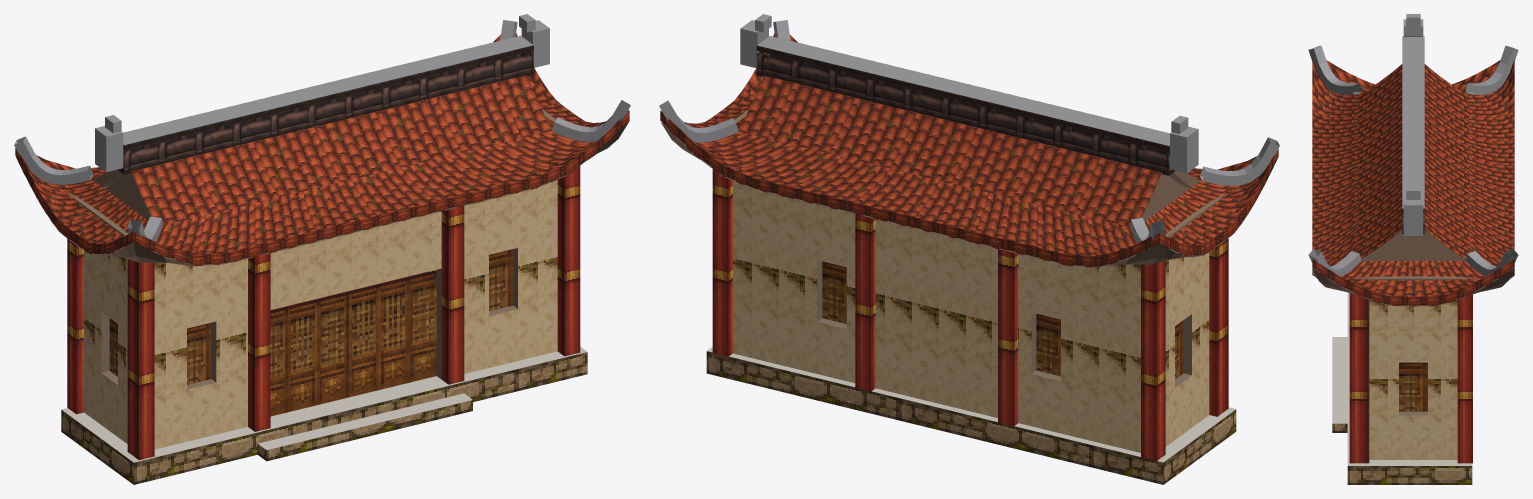
The model's file is b_house_red.glb.
The picture shows the model from 3 angles, left to right: view 1: azimuth 30°, elevation 25°; view 2: azimuth 150°, elevation 25°; view 3: azimuth 270°, elevation 25°; orthographic projection. The views are drawn at different scales.
Parts seen in each view (by area): view 1: roof, plaster, post, door, stone, ridge, ridgeend, stonetop, eave, win, reveal, under (+1 smaller); view 2: plaster, roof, post, stone, ridge, ridgeend, eave, win, stonetop, under, reveal, wood; view 3: roof, plaster, ridgeend, post, stone, stonetop, wood, eave, win, under.
Boxes of the visible parts, x1=… form: roof: x1=20, y1=33, x2=628, y2=255; plaster: x1=84, y1=179, x2=557, y2=449; post: x1=67, y1=166, x2=580, y2=460; door: x1=270, y1=269, x2=436, y2=416; stone: x1=61, y1=352, x2=587, y2=484; ridge: x1=117, y1=45, x2=533, y2=174; ridgeend: x1=14, y1=14, x2=630, y2=241; stonetop: x1=61, y1=347, x2=587, y2=462; eave: x1=15, y1=110, x2=629, y2=266; win: x1=109, y1=249, x2=513, y2=384; reveal: x1=101, y1=248, x2=517, y2=389; under: x1=15, y1=122, x2=628, y2=266; plaster: x1=733, y1=181, x2=1209, y2=452; roof: x1=661, y1=33, x2=1273, y2=256; post: x1=712, y1=169, x2=1228, y2=461; stone: x1=706, y1=351, x2=1236, y2=484; ridge: x1=756, y1=45, x2=1175, y2=175; ridgeend: x1=659, y1=14, x2=1279, y2=248; eave: x1=660, y1=111, x2=1278, y2=267; win: x1=822, y1=261, x2=1183, y2=379; stonetop: x1=707, y1=347, x2=1235, y2=462; under: x1=661, y1=122, x2=1275, y2=267; reveal: x1=817, y1=260, x2=1191, y2=387; wood: x1=734, y1=109, x2=1227, y2=237; roof: x1=1312, y1=59, x2=1514, y2=296; plaster: x1=1369, y1=300, x2=1457, y2=459; ridgeend: x1=1308, y1=14, x2=1518, y2=276; post: x1=1349, y1=293, x2=1472, y2=463; stone: x1=1332, y1=423, x2=1472, y2=484; stonetop: x1=1332, y1=292, x2=1472, y2=465; wood: x1=1355, y1=93, x2=1473, y2=280; eave: x1=1312, y1=258, x2=1514, y2=306; win: x1=1399, y1=362, x2=1427, y2=411; under: x1=1312, y1=267, x2=1514, y2=306.
Size of the model in its own units: 71.01 by 44.94 by 29.89.
14 materials, 9 textured.
